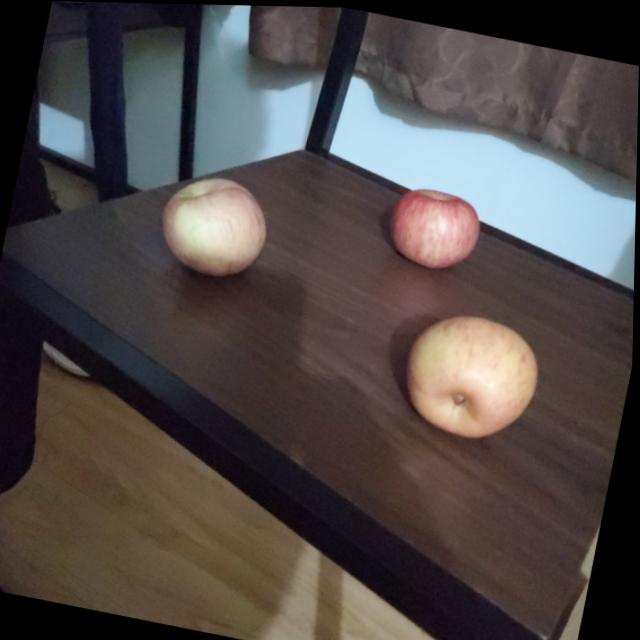apple: (397, 304, 550, 449), (156, 169, 280, 285), (386, 182, 486, 273)
